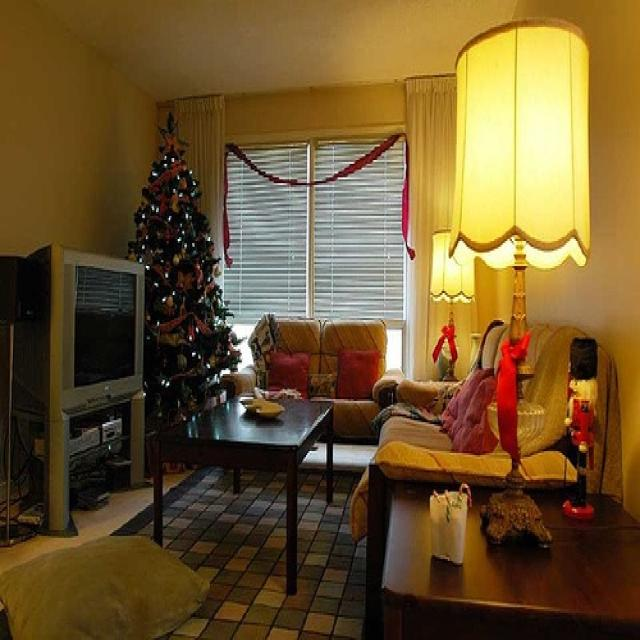sofa: (346, 316, 614, 544), (218, 314, 400, 442)
tvmonitor: (19, 243, 151, 414)
